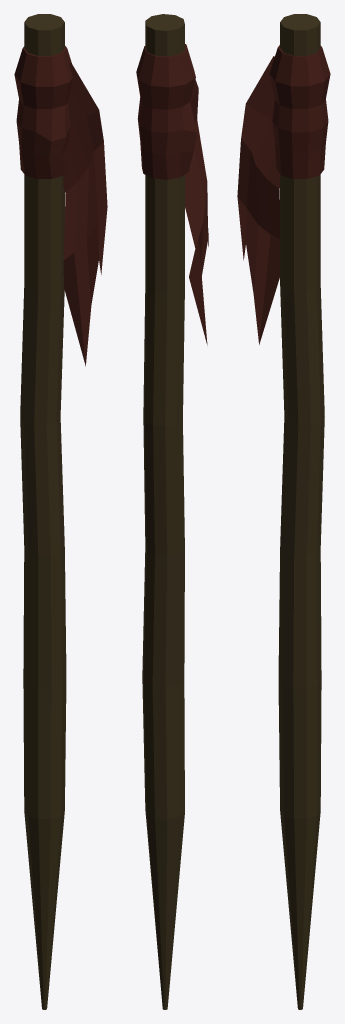
Rendered from Path_Cloth.fbx.
3 views of the same model, side by side, from view 1: azimuth 90°, elevation 25°; view 2: azimuth 150°, elevation 25°; view 3: azimuth 270°, elevation 25° (orthographic).
Parts seen in each view (by area): view 1: Path_Cloth; view 2: Path_Cloth; view 3: Path_Cloth.
Part boxes in pixels (bbox=[...]): Path_Cloth: bbox=[14, 14, 107, 1009]; Path_Cloth: bbox=[136, 14, 208, 1009]; Path_Cloth: bbox=[237, 14, 330, 1009].
Bounding box in the file's own units: 3.46 × 61.77 × 5.28.
